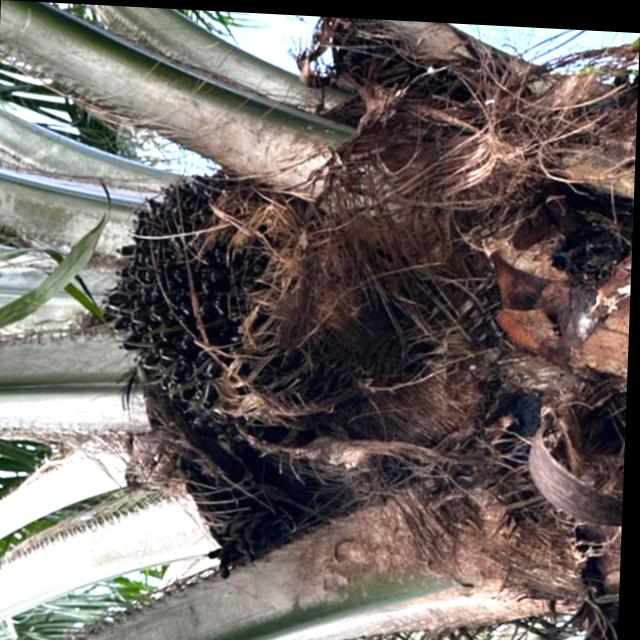almost: (90, 152, 323, 431)
